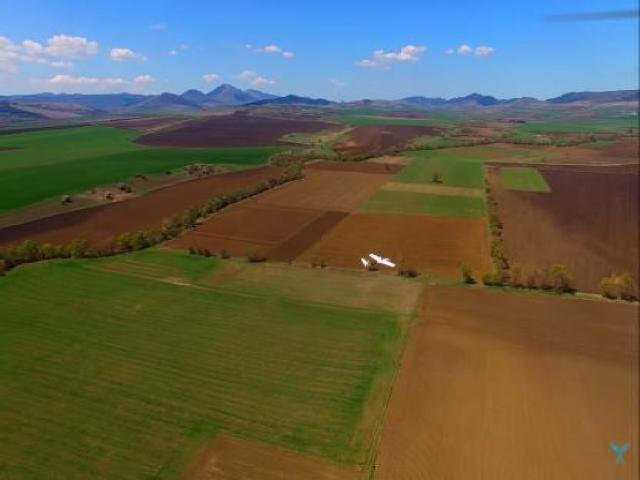uav: (355, 246, 400, 275)
